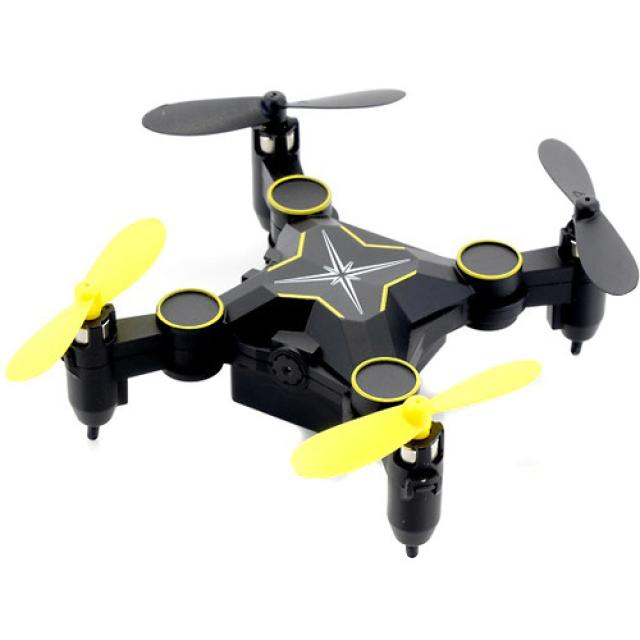drone: (0, 67, 640, 573)
